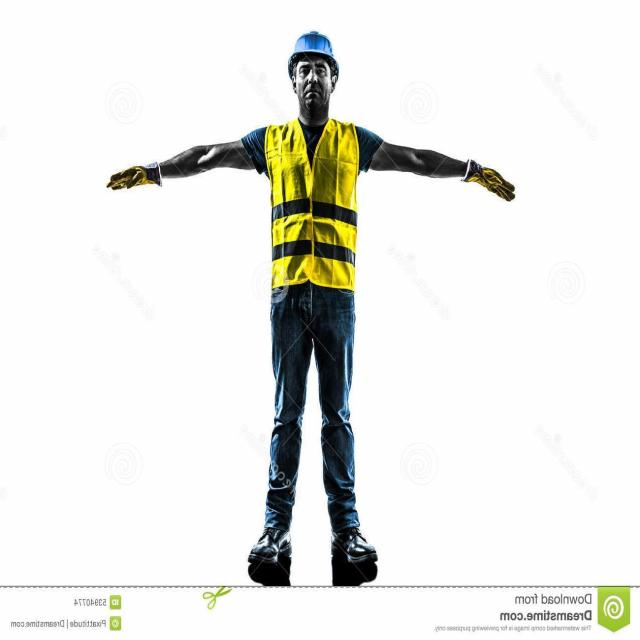Reflective-Jacket: (262, 117, 362, 289)
Safety-Helmet: (286, 27, 338, 63)
